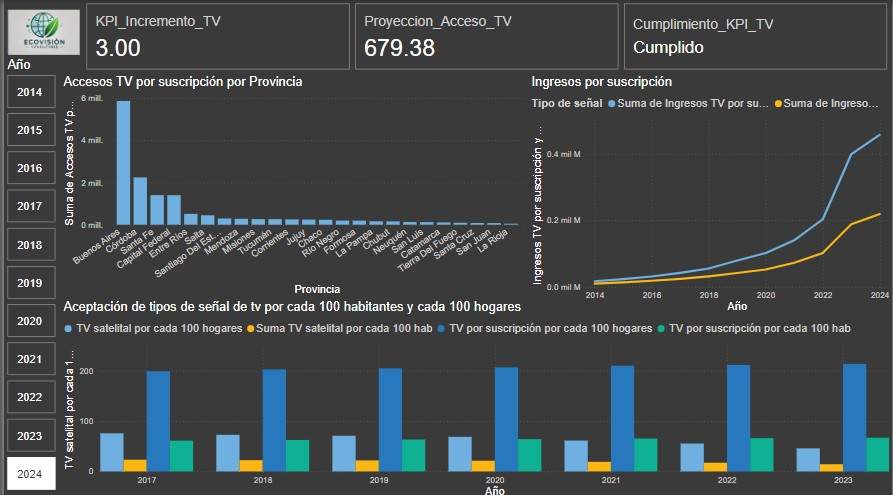

The page's visual inventory and layout, read from the dashboard file:
{"tool":"powerbi","page":{"name":"Página 4","canvas":[1280,720],"ordinal":4},"visuals":[{"type":"clusteredColumnChart","title":"Accesos TV por suscripción  por Provincia","fields":{"Category":["Accesos_prov_TV.Provincia"],"Y":["Sum(Accesos_prov_TV.Accesos TV por suscripción (Vrf))"]},"box":[80.6,106.6,673.9,324],"z":0},{"type":"clusteredColumnChart","title":"Aceptación de tipos de señal de tv por cada 100 habitantes y cada 100 hogares","fields":{"Category":["Penetracion_totales_TV.Fecha.Variación.Jerarquía de fechas.Año"],"Y":["Sum(Penetracion_totales_TV.Accesos TV satelital por cada 100 hogares)","Sum(Penetracion_totales_TV.Accesos TV satelital por cada 100 hab)","Sum(Penetracion_totales_TV.Accesos TV por suscripción por cada 100 hogares)","Sum(Penetracion_totales_TV.Accesos TV por suscripción por cada 100 hab)"]},"box":[80.5,430.2,1199.5,290.3],"z":1000},{"type":"advancedSlicerVisual","fields":{"Values":["tabla_calendario_con_provincias.Año"]},"box":[0,82.1,79.2,637.9],"z":2000},{"type":"lineChart","title":"Ingresos por suscripción","fields":{"Category":["Ingresos_TV.Fecha.Variación.Jerarquía de fechas.Año"],"Y":["Sum(Ingresos_TV.Ingresos TV por suscripción  (miles de $))","Sum(Ingresos_TV.Ingresos TV satelital (miles de $))"]},"box":[754.6,106.6,525.6,348.5],"z":3000},{"type":"image","box":[0,0,113.8,92.2],"z":4000},{"type":"cardVisual","fields":{"Data":["Penetracion_totales_TV.KPI_Incremento_TV","Penetracion_totales_TV.Proyeccion_Acceso_TV","Penetracion_totales_TV.Cumplimiento_KPI_TV"]},"box":[114.4,0,1165.6,106],"z":5000}]}

Visuals, with their boxes on the page's 1280x720 design canvas (x1, y1, x2, y2). These are canvas units, not pixel positions in the 893x495 screenshot, which may show the page scaled, cropped or inside an application window:
"Accesos TV por suscripción  por Provincia" clusteredColumnChart: <box>81,107,754,431</box>
"Aceptación de tipos de señal de tv por cada 100 habitantes y cada 100 hogares" clusteredColumnChart: <box>80,430,1280,720</box>
advancedSlicerVisual - tabla_calendario_con_provincias.Año: <box>0,82,79,720</box>
"Ingresos por suscripción" lineChart: <box>755,107,1280,455</box>
image: <box>0,0,114,92</box>
cardVisual - Penetracion_totales_TV.KPI_Incremento_TV x Penetracion_totales_TV.Proyeccion_Acceso_TV: <box>114,0,1280,106</box>
